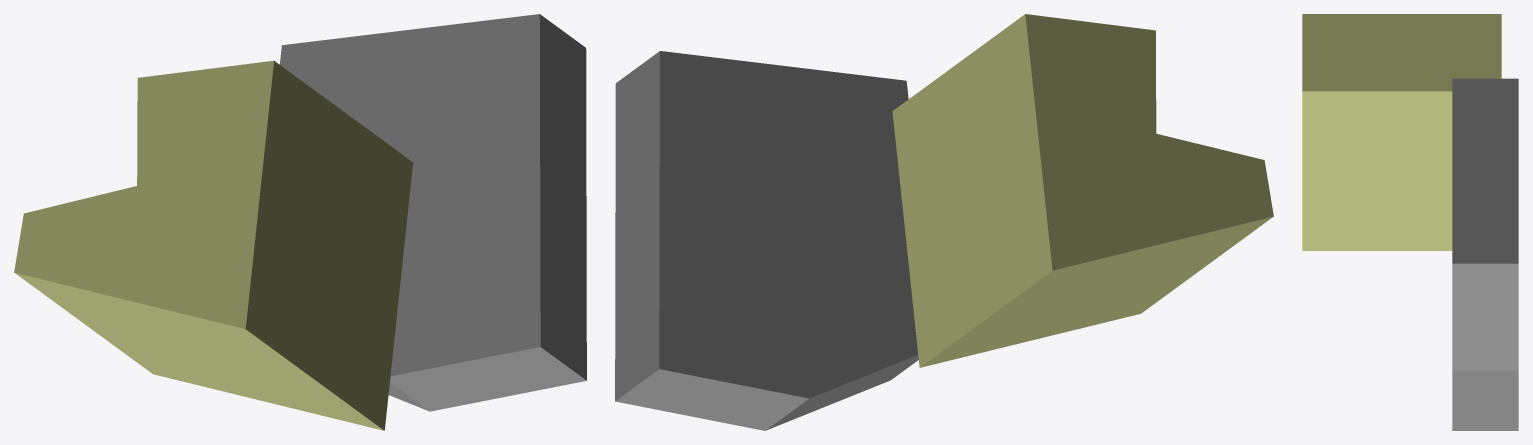
3 renders of one model, left to right at view 1: azimuth 30°, elevation 25°; view 2: azimuth 150°, elevation 25°; view 3: azimuth 270°, elevation 25°, orthographic. The views are drawn at different scales.
Parts seen in each view (by area): view 1: 0_2_0_1_1_1_1_0_2_1; view 2: 0_2_0_1_1_1_1_0_2_1; view 3: 0_2_0_1_1_1_1_0_2_1.
Part boxes in pixels (<box>): 0_2_0_1_1_1_1_0_2_1: <box>14,14,586,430</box>; 0_2_0_1_1_1_1_0_2_1: <box>615,14,1273,430</box>; 0_2_0_1_1_1_1_0_2_1: <box>1302,14,1518,430</box>.
Bounding box in the file's own units: 20.12 × 13.54 × 9.77.
